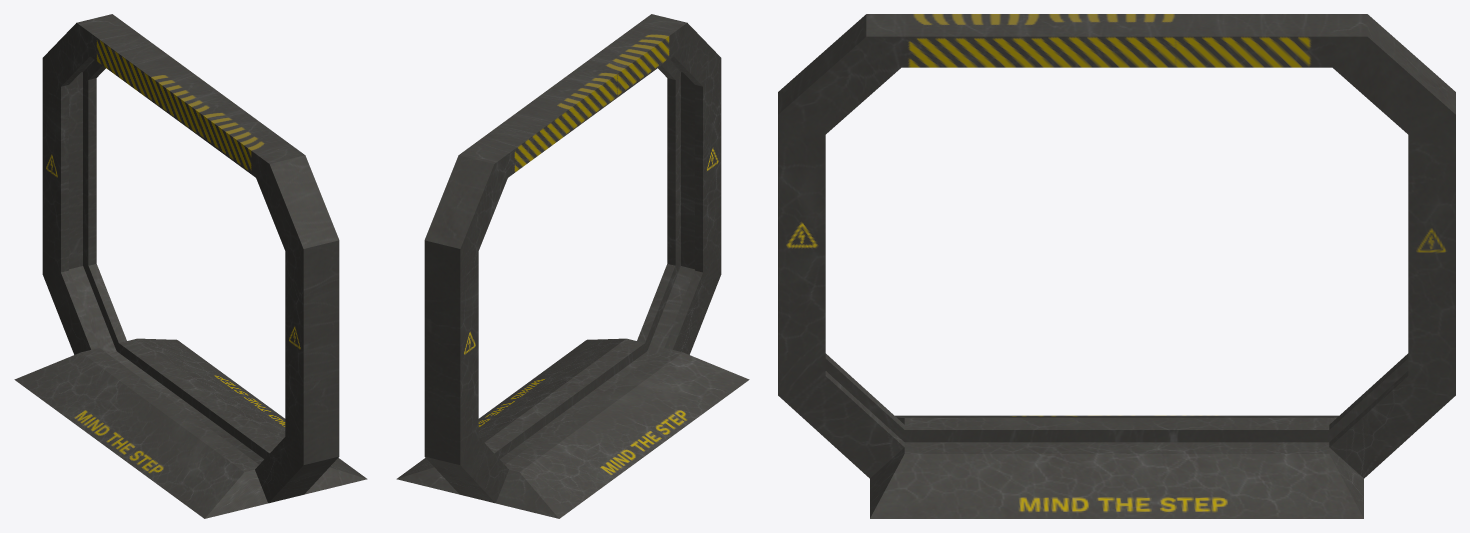
The model's file is lab_hatch.FBX.
3 renders of one model, left to right at view 1: azimuth 30°, elevation 25°; view 2: azimuth 150°, elevation 25°; view 3: azimuth 270°, elevation 25°, orthographic. The views are drawn at different scales.
Parts seen in each view (by area): view 1: lab_hatch; view 2: lab_hatch; view 3: lab_hatch.
Boxes of the visible parts, box(x1,y1,x2,y2) form: lab_hatch: box(14, 14, 367, 518); lab_hatch: box(396, 14, 749, 518); lab_hatch: box(778, 14, 1455, 518).
Bounding box in the file's own units: 0.8808 × 1.76 × 2.44.
1 material, 1 textured.
